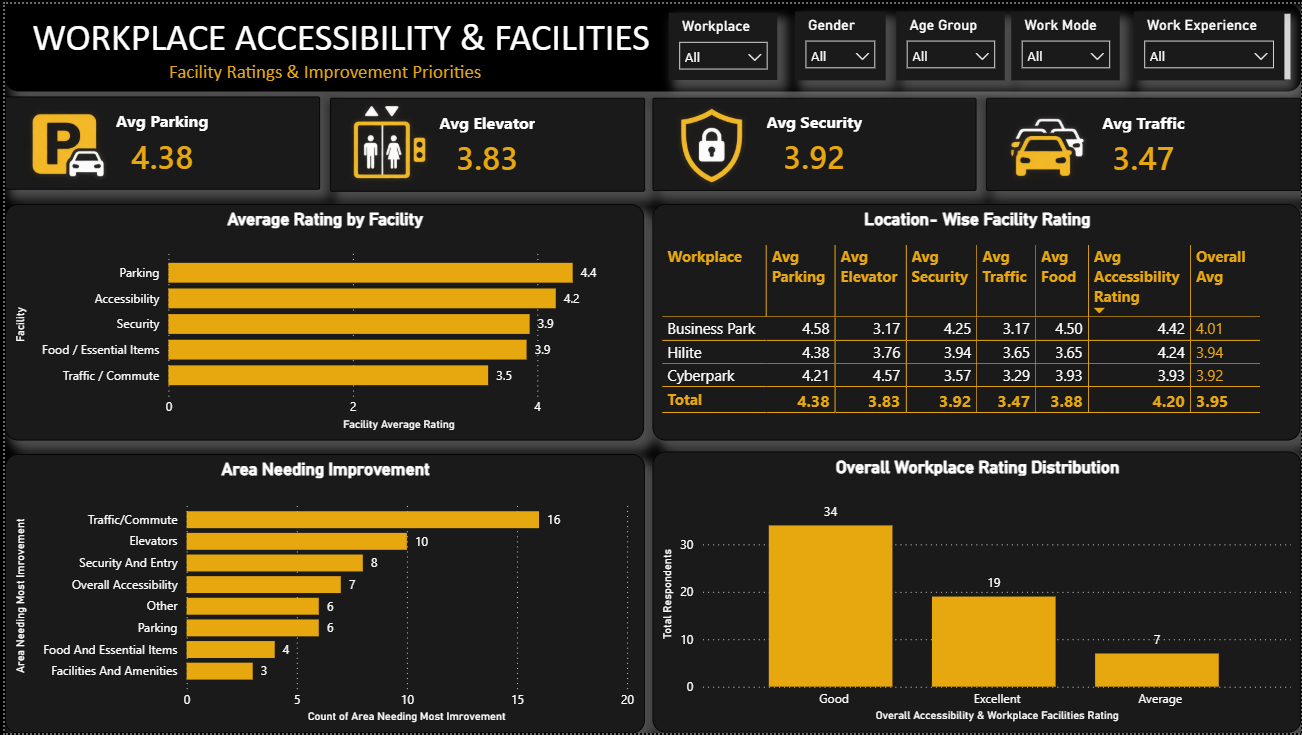

The page's visual inventory and layout, read from the dashboard file:
{"tool":"powerbi","page":{"name":"Overall ","canvas":[1280,720],"ordinal":1},"visuals":[{"type":"textbox","box":[0,0,1280,86],"z":0},{"type":"cardVisual","fields":{"Data":["Raw Data.Avg Parking"]},"box":[0,91.9,311,92],"z":1000},{"type":"cardVisual","fields":{"Data":["Raw Data.Avg Elevator"]},"box":[321.2,92.4,311,92.4],"z":2000},{"type":"cardVisual","fields":{"Data":["Raw Data.AVg Security"]},"box":[639.5,92.9,320.4,91.7],"z":3000},{"type":"cardVisual","fields":{"Data":["Raw Data.Avg Traffic"]},"box":[969.7,92.4,311,92],"z":4000},{"type":"clusteredBarChart","title":"Average Rating by Facility","fields":{"Category":["Facility.Facility"],"Y":["Facility.Facility Average Rating"]},"box":[0,197.5,631.2,233.8],"z":5000},{"type":"pivotTable","title":"Location-        Wise Facility Rating","fields":{"Rows":["Raw Data.Workplace"],"Values":["Raw Data.Avg Parking","Raw Data.Avg Elevator","Raw Data.Avg Security","Raw Data.Avg Traffic","Raw Data.Avg Food","Raw Data.Avg Accessibility Rating","Facility.Overall Avg"]},"box":[640,197.5,640,233.8],"z":6000},{"type":"barChart","title":"Area Needing Improvement","fields":{"Category":["Raw Data.Area Needing Most Imrovement"],"Y":["CountNonNull(Raw Data.Area Needing Most Imrovement)"]},"box":[0,443.9,631.8,275.8],"z":7000},{"type":"slicer","fields":{"Values":["Raw Data.Workplace"]},"box":[656.1,9.1,107.6,66.7],"z":8000},{"type":"slicer","fields":{"Values":["Raw Data.Gender"]},"box":[780.3,7.6,89.4,68.2],"z":9000},{"type":"slicer","fields":{"Values":["Raw Data.Age Group"]},"box":[880.3,7.6,107.6,68.2],"z":10000},{"type":"slicer","fields":{"Values":["Raw Data.Work Mode"]},"box":[993.9,7.6,107.6,68.2],"z":11000},{"type":"slicer","fields":{"Values":["Raw Data.Work Experience"]},"box":[1115.2,7.6,148.5,68.2],"z":12000},{"type":"clusteredColumnChart","title":"Overall Workplace Rating Distribution","fields":{"Category":["Raw Data.Overall Accessibility & Workplace Facilities Rating"],"Y":["Raw Data.Total Respondents"]},"box":[639.4,442.4,640.9,277.3],"z":13000},{"type":"image","box":[13.5,92.9,100,89],"z":14000},{"type":"image","box":[335.1,92.9,100,89],"z":15000},{"type":"image","box":[648.1,92.9,100,89],"z":16000},{"type":"image","box":[979.5,92.9,100,89],"z":17000}]}

Visuals, with their boxes in screenshot pixels (x1, y1, x2, y2), scaled from the page's 1280x720 canvas onto the 1302x735 screenshot:
textbox: bbox=[0, 0, 1301, 88]
cardVisual - Raw Data.Avg Parking: bbox=[0, 94, 316, 188]
cardVisual - Raw Data.Avg Elevator: bbox=[327, 94, 643, 189]
cardVisual - Raw Data.AVg Security: bbox=[650, 95, 976, 188]
cardVisual - Raw Data.Avg Traffic: bbox=[986, 94, 1301, 188]
"Average Rating by Facility" clusteredBarChart: bbox=[0, 202, 642, 440]
"Location-        Wise Facility Rating" pivotTable: bbox=[651, 202, 1301, 440]
"Area Needing Improvement" barChart: bbox=[0, 453, 643, 734]
slicer - Raw Data.Workplace: bbox=[667, 9, 777, 77]
slicer - Raw Data.Gender: bbox=[794, 8, 885, 77]
slicer - Raw Data.Age Group: bbox=[895, 8, 1005, 77]
slicer - Raw Data.Work Mode: bbox=[1011, 8, 1120, 77]
slicer - Raw Data.Work Experience: bbox=[1134, 8, 1285, 77]
"Overall Workplace Rating Distribution" clusteredColumnChart: bbox=[650, 452, 1301, 734]
image: bbox=[14, 95, 115, 186]
image: bbox=[341, 95, 443, 186]
image: bbox=[659, 95, 761, 186]
image: bbox=[996, 95, 1098, 186]
